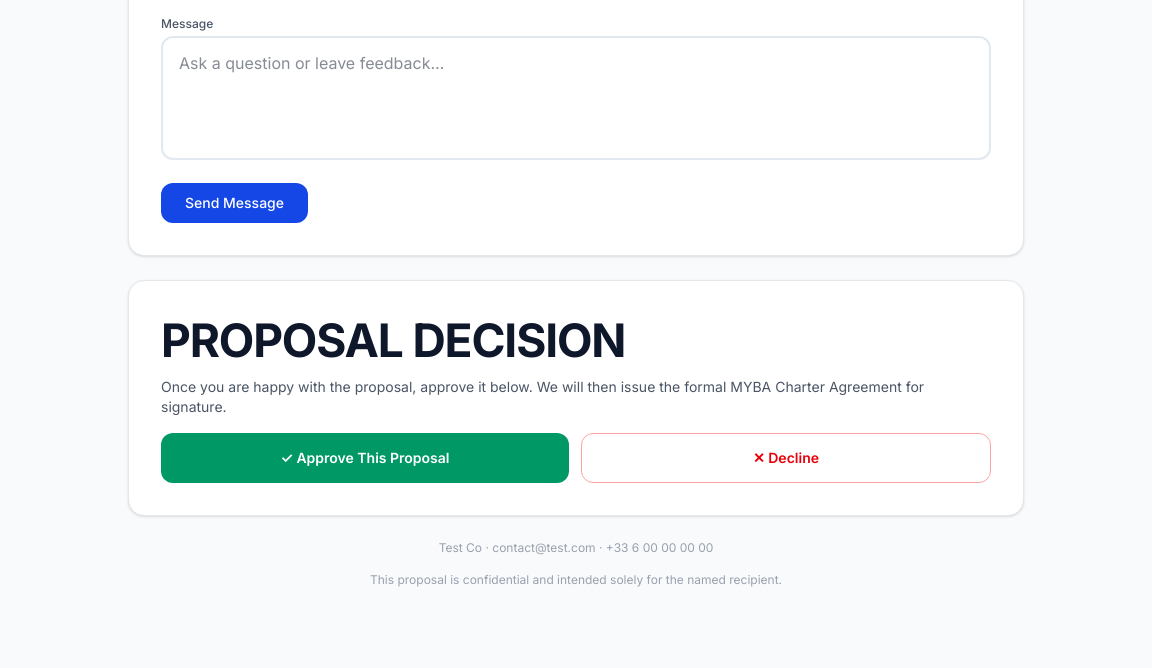
Test: ProposalClient — approve / reject › approve flow: cancel returns to initial buttons
(page scrolled)
Click the button "✓ Approve This Proposal": x=365, y=458 [161, 432, 569, 482]
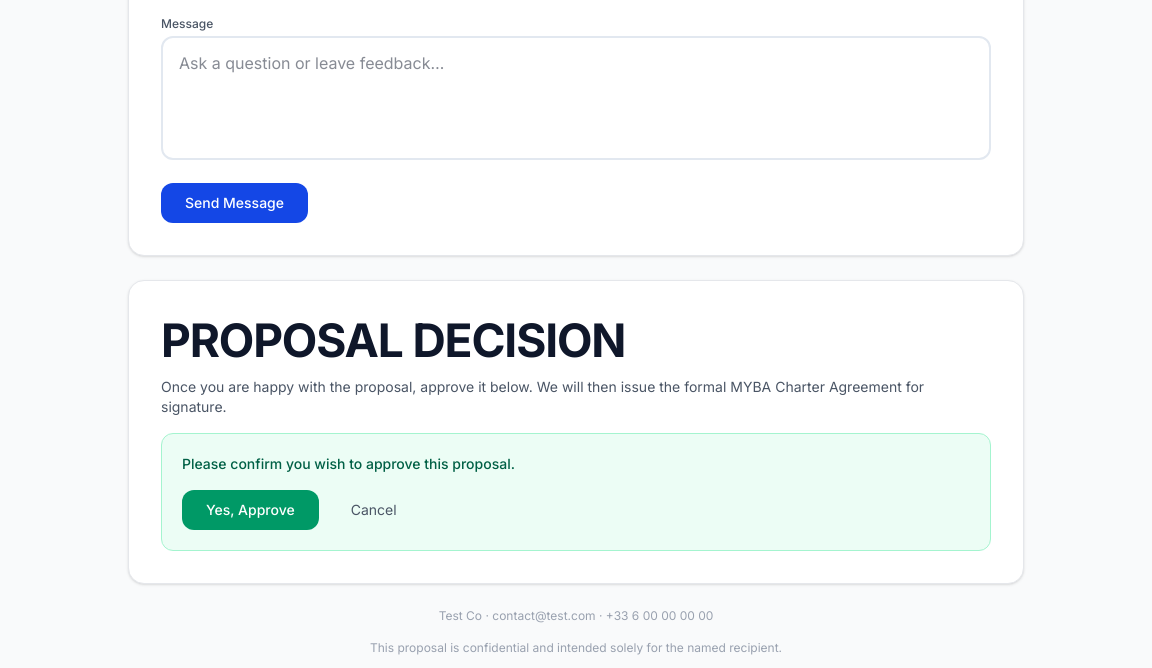
Expected: the button "Yes, Approve" is shown, [182, 490, 319, 530]
Click the button "Cancel": x=374, y=510 [331, 490, 417, 530]
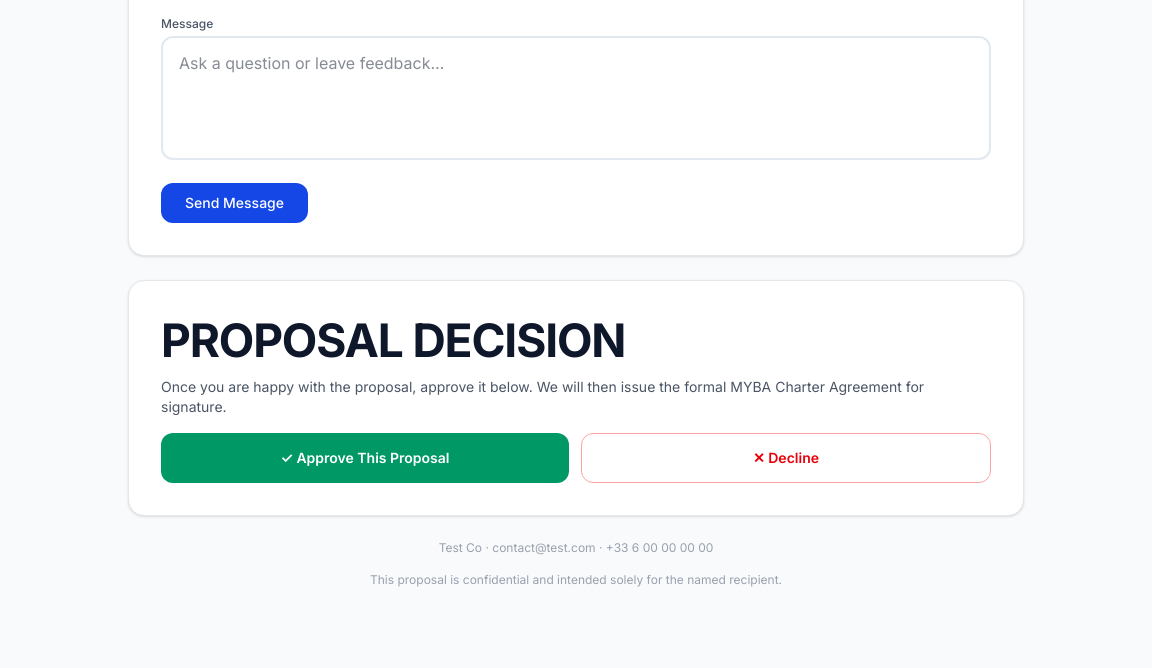
Expected: the button "✓ Approve This Proposal" is shown, [161, 432, 569, 482]
